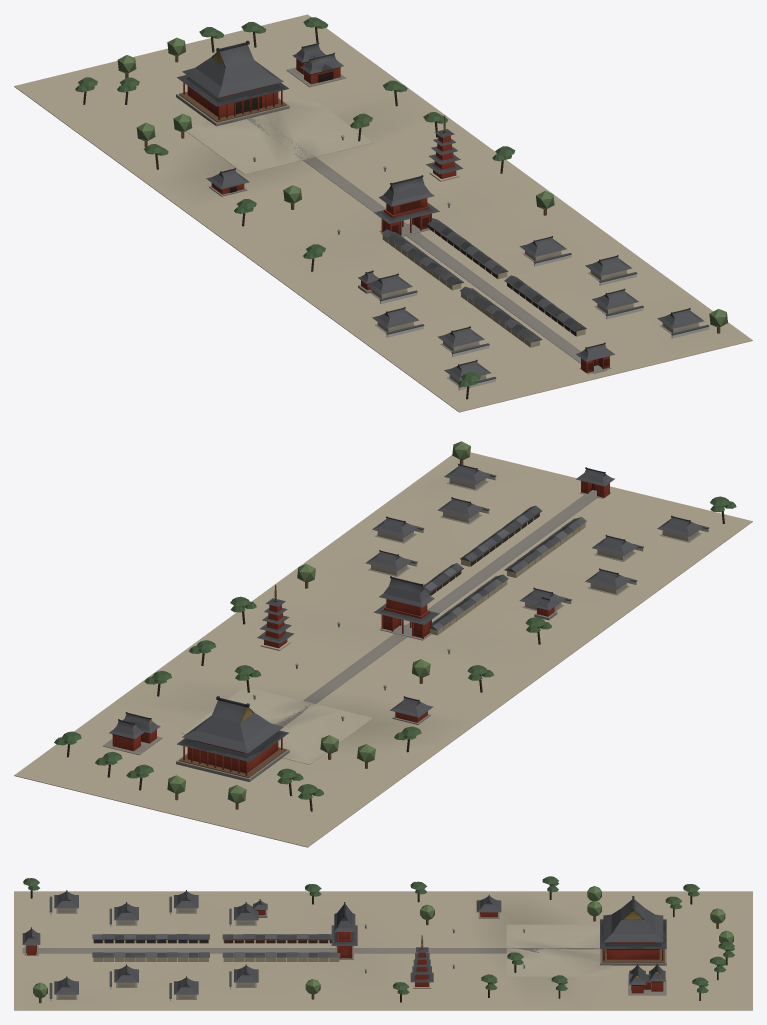
File: sensoji.glb
The picture shows the model from 3 angles, top to bottom: view 1: azimuth 30°, elevation 25°; view 2: azimuth 150°, elevation 25°; view 3: azimuth 270°, elevation 25°; orthographic projection. The views are drawn at different scales.
Visible parts, largest first — view 1: p0_precinct, p2_subtemples, p1_gates; view 2: p0_precinct, p2_subtemples, p1_gates; view 3: p0_precinct, p2_subtemples, p1_gates.
Boxes of the visible parts, x1,y1,x2,y2 form: p0_precinct: (14, 14, 752, 412); p2_subtemples: (75, 17, 727, 399); p1_gates: (374, 175, 614, 374); p0_precinct: (14, 452, 752, 847); p2_subtemples: (54, 441, 736, 811); p1_gates: (374, 467, 614, 640); p0_precinct: (14, 891, 752, 1010); p2_subtemples: (23, 876, 734, 1003); p1_gates: (22, 902, 357, 961).
Size of the model in its own units: 160 by 31.86 by 420.
